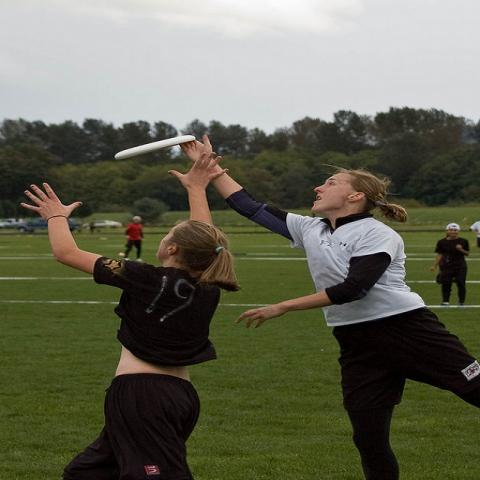car: (16, 217, 82, 234), (82, 220, 123, 229), (1, 218, 22, 228)
